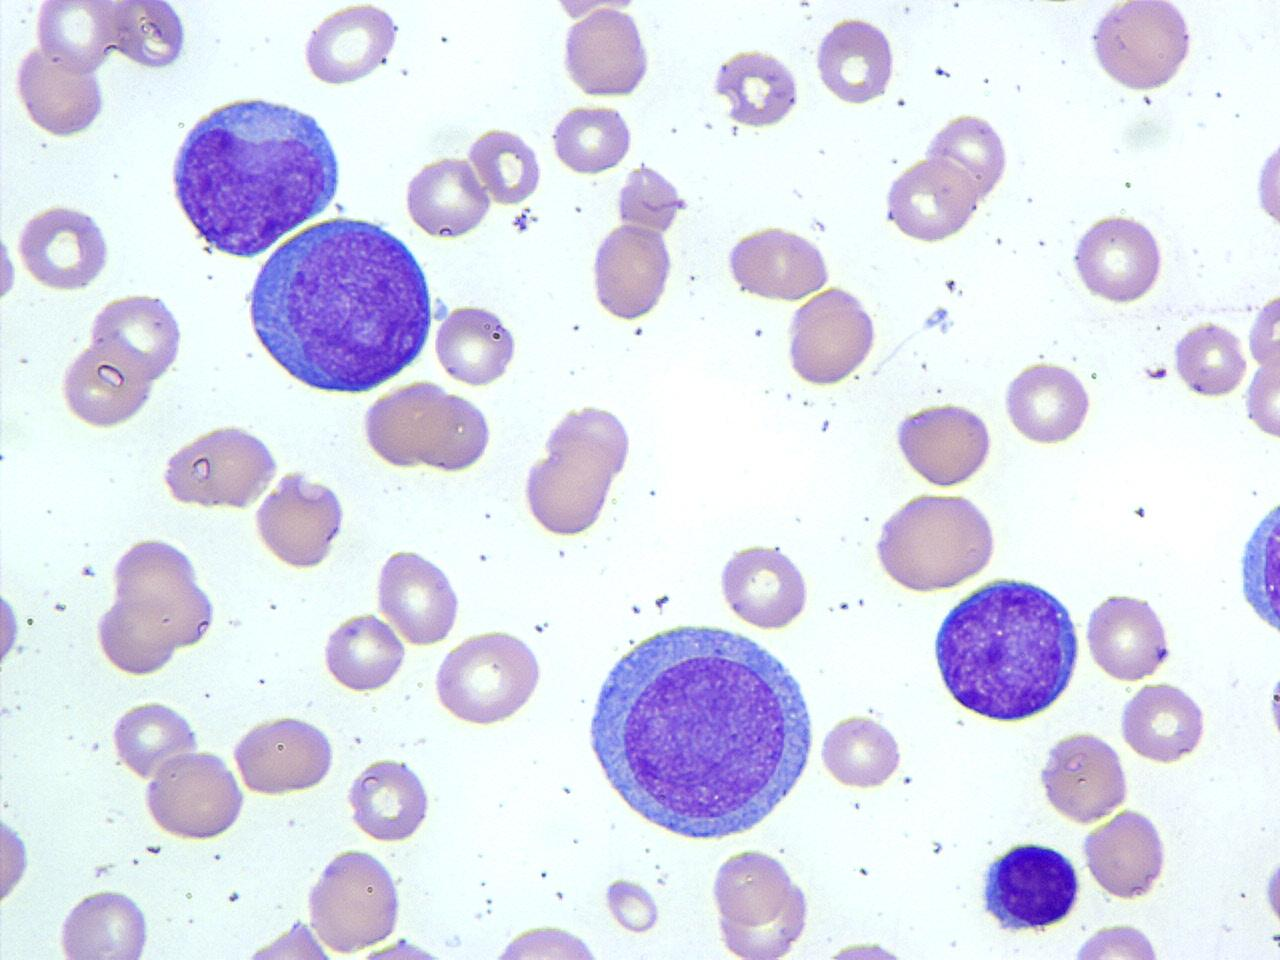Platelets: (816, 937, 922, 960), (1264, 664, 1280, 750), (1139, 362, 1171, 383), (924, 304, 950, 325), (511, 209, 530, 235), (938, 316, 954, 334), (944, 278, 960, 296), (1267, 931, 1280, 952)
RBC: (518, 400, 636, 540), (872, 488, 1002, 595), (431, 628, 544, 728), (160, 421, 282, 513), (304, 845, 406, 954), (109, 532, 216, 632), (1085, 1, 1199, 94), (783, 284, 880, 389), (250, 470, 348, 572), (142, 748, 246, 842), (11, 42, 110, 139), (1069, 211, 1167, 308), (14, 199, 115, 292), (54, 338, 156, 430), (372, 544, 464, 646), (230, 712, 339, 798), (891, 398, 994, 489), (558, 4, 654, 101), (1036, 728, 1132, 824), (86, 290, 186, 382), (588, 220, 674, 324), (722, 223, 832, 303), (716, 540, 812, 630), (300, 3, 402, 87), (1082, 589, 1172, 683), (1000, 358, 1094, 448), (882, 156, 979, 243), (1082, 804, 1168, 902), (401, 152, 493, 242), (1117, 678, 1209, 766), (364, 379, 450, 472), (344, 756, 434, 844), (432, 299, 520, 388), (925, 111, 1011, 200), (108, 698, 201, 780), (812, 15, 894, 107), (93, 594, 182, 678), (54, 884, 153, 959), (410, 388, 495, 473), (817, 710, 906, 791), (320, 611, 406, 694), (708, 845, 793, 926), (32, 0, 117, 78), (1171, 318, 1249, 402), (466, 123, 543, 208), (549, 100, 633, 176), (610, 160, 690, 233), (109, 0, 190, 72), (223, 918, 347, 958), (482, 921, 610, 959), (1068, 922, 1166, 960), (1, 804, 32, 922), (1252, 116, 1280, 245), (1244, 350, 1280, 442), (1246, 281, 1280, 374), (0, 578, 21, 676), (0, 221, 19, 312)
WBC: (578, 615, 822, 844), (241, 210, 438, 398), (162, 88, 345, 260), (926, 572, 1085, 726), (519, 400, 635, 542), (976, 836, 1084, 935), (558, 3, 658, 104), (1235, 472, 1280, 658), (710, 45, 800, 131), (611, 161, 688, 233), (1253, 123, 1280, 246), (1260, 838, 1280, 942)
